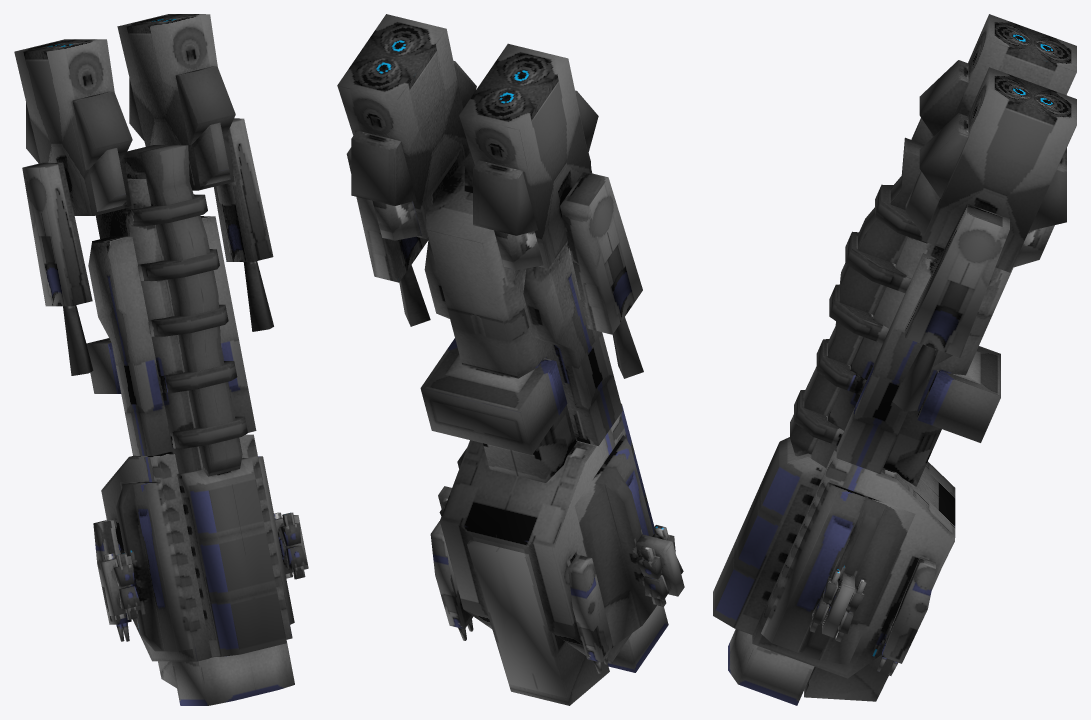
Rendered from blue_spaceship_01.fbx.
3 views of the same model, side by side, from view 1: azimuth 30°, elevation 25°; view 2: azimuth 150°, elevation 25°; view 3: azimuth 270°, elevation 25° (orthographic). The views are drawn at different scales.
Visible parts, largest first — view 1: FedCruiserMod; view 2: FedCruiserMod; view 3: FedCruiserMod.
Boxes of the visible parts, bbox=[...] form: FedCruiserMod: bbox=[14, 14, 308, 705]; FedCruiserMod: bbox=[337, 14, 684, 705]; FedCruiserMod: bbox=[713, 14, 1076, 705].
Size of the model in its own units: 1329 by 1954 by 3763.
Materials: 1 (1 with a texture image).
